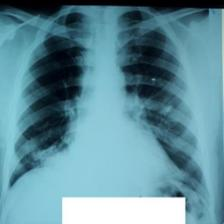tuberculosis: (6, 0, 211, 217)
